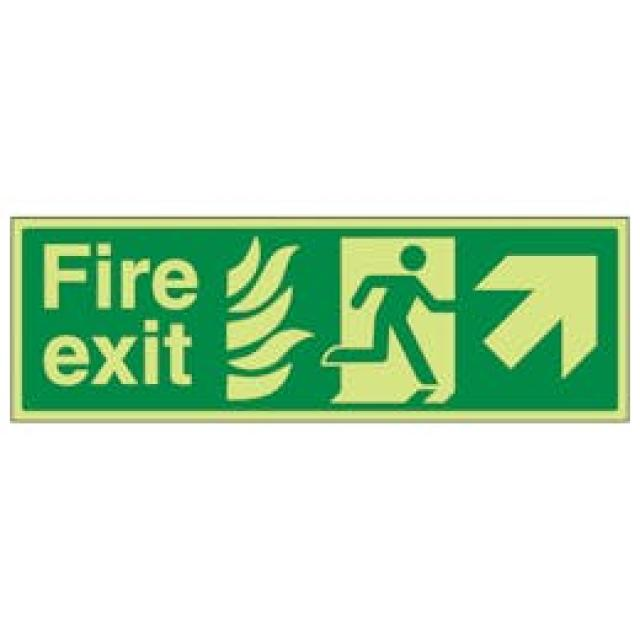exit_sign: (12, 194, 637, 447)
